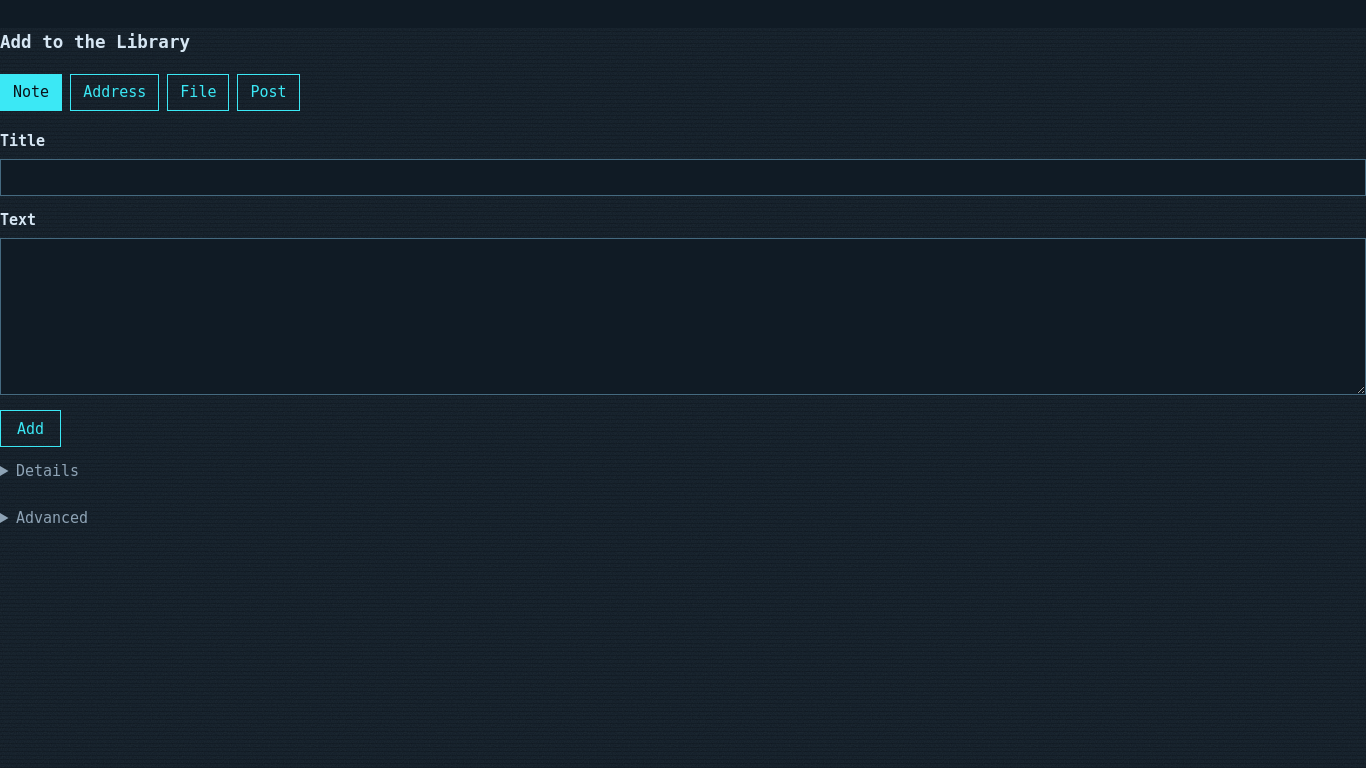
it: the Post way of adding › is the fourth way, and shows its own field instead of the form
The width and height of the screenshot is (1366, 768).
Click the button "Post".
click(269, 92)  # box [238,74,300,111]
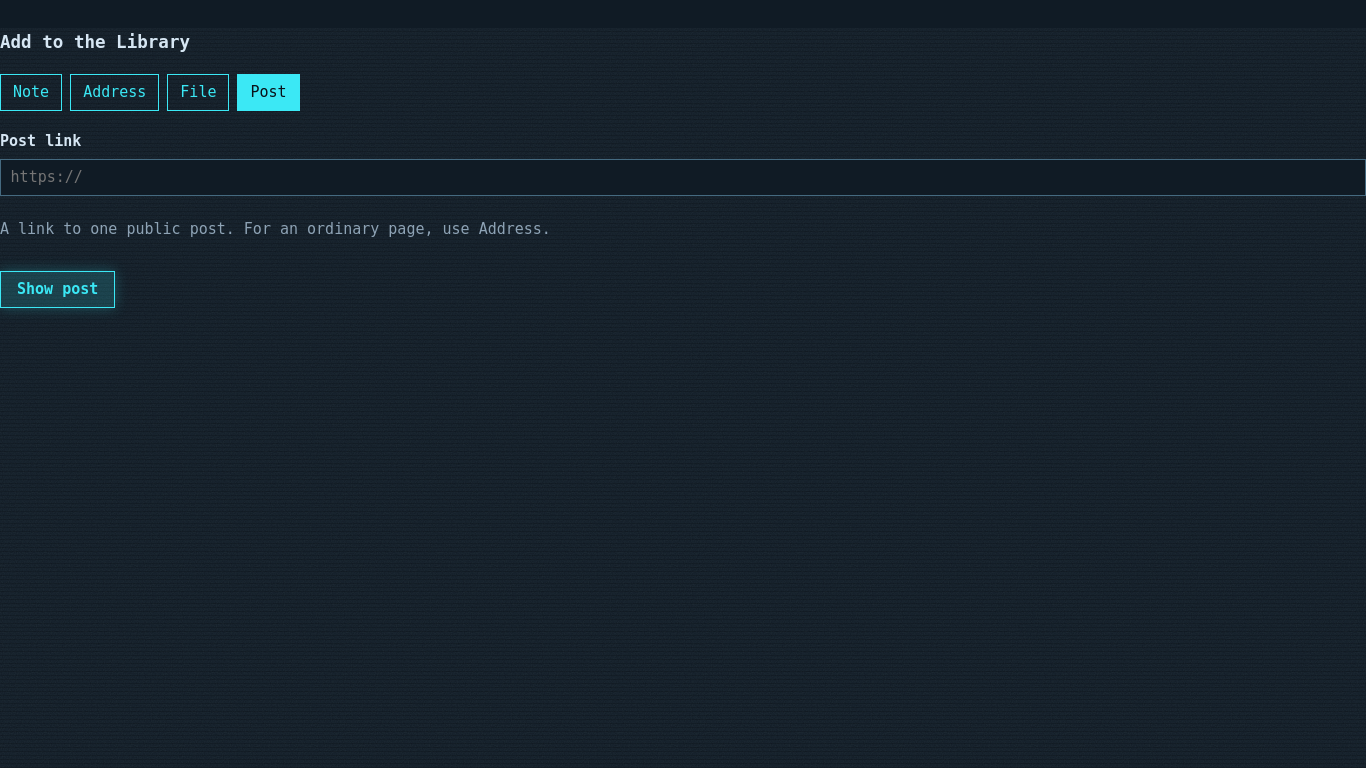
Expected: the field labelled "Post link" is shown, [0,159,1365,196]
Expected: the text "A link to one public post. For an ordinary page, use Address." is shown, [0,220,551,238]
Expected: the label labelled "Title" is gone
